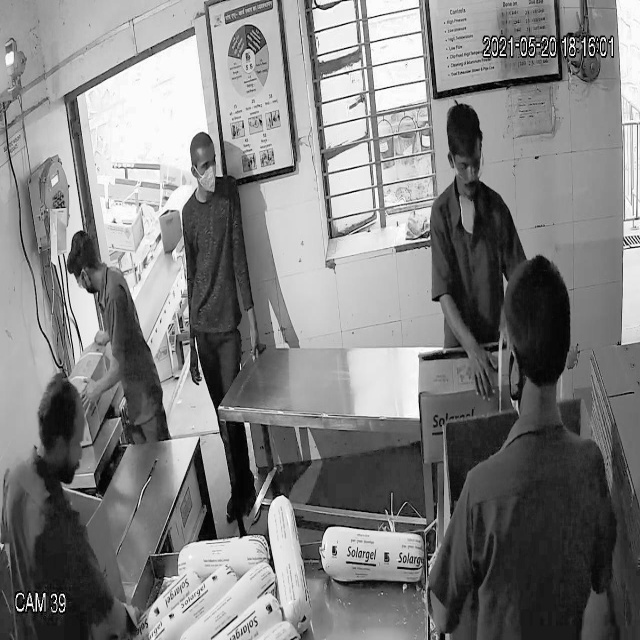Gafas: (446, 147, 488, 185)
